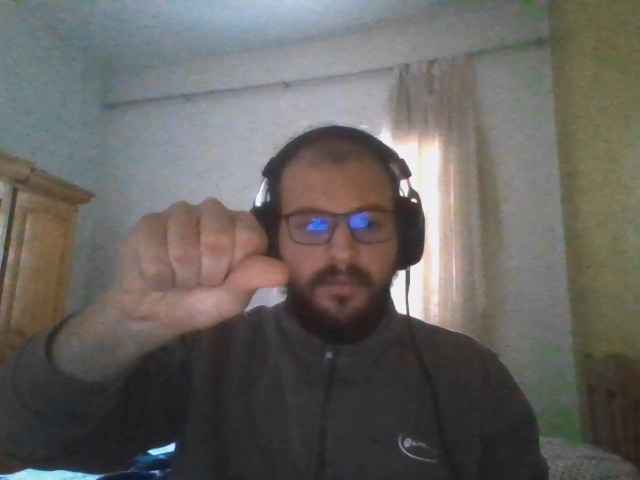Yes: (122, 196, 287, 326)
